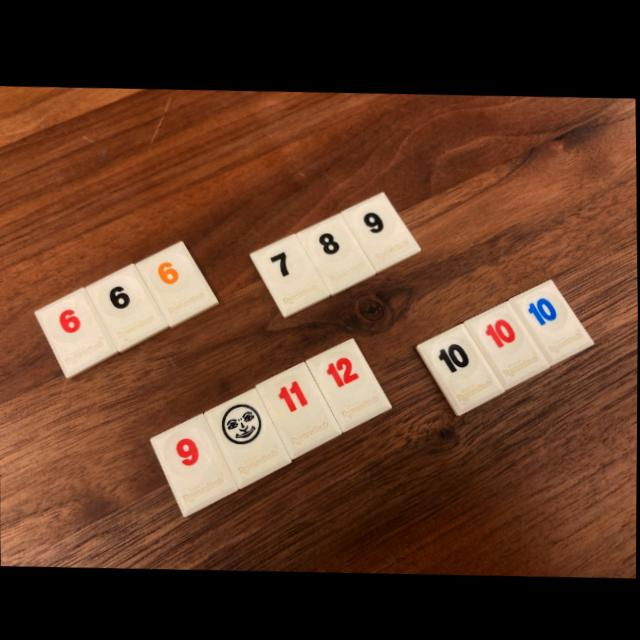black_10: (417, 320, 504, 411)
black_6: (86, 262, 168, 350)
black_7: (250, 232, 330, 315)
black_8: (297, 211, 376, 291)
black_9: (340, 189, 421, 269)
blue_10: (509, 276, 593, 360)
joker: (205, 386, 291, 485)
orange_6: (136, 239, 218, 325)
red_10: (464, 297, 550, 385)
red_11: (256, 359, 342, 456)
red_12: (306, 335, 392, 428)
red_6: (34, 287, 117, 376)
red_9: (151, 412, 239, 515)
